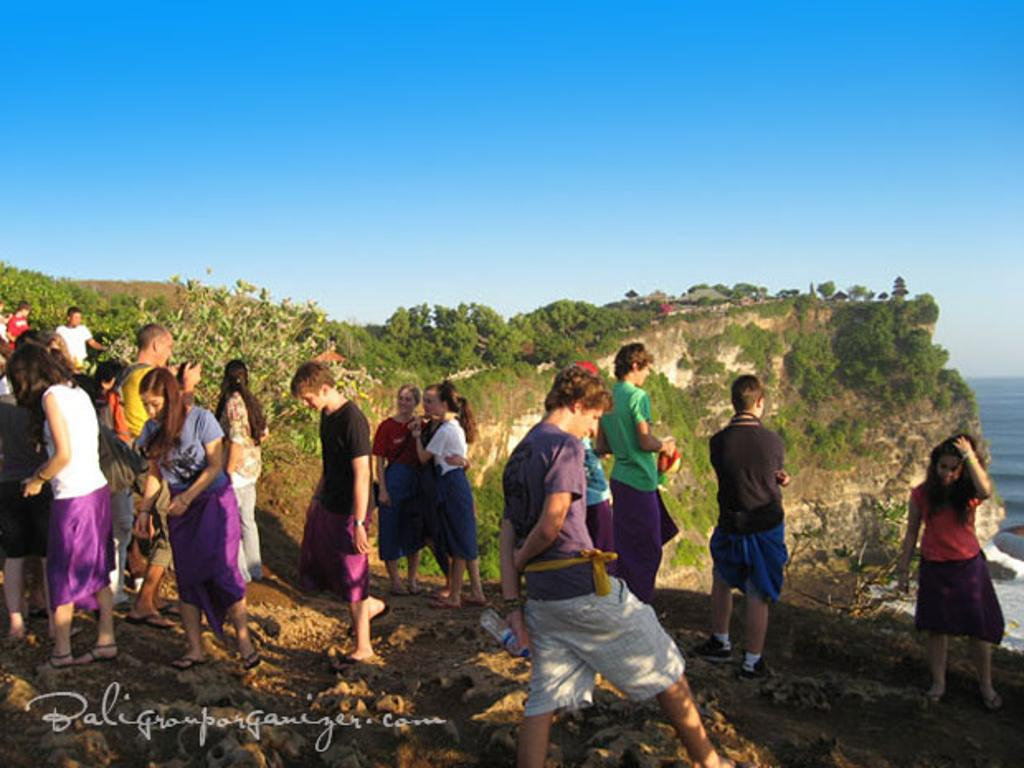face: (573, 402, 603, 437), (141, 394, 168, 423), (940, 456, 963, 484), (152, 338, 173, 367), (302, 390, 325, 411), (632, 360, 649, 385), (399, 392, 416, 413), (424, 393, 440, 414), (434, 396, 446, 414), (70, 313, 81, 325), (23, 308, 30, 316)
